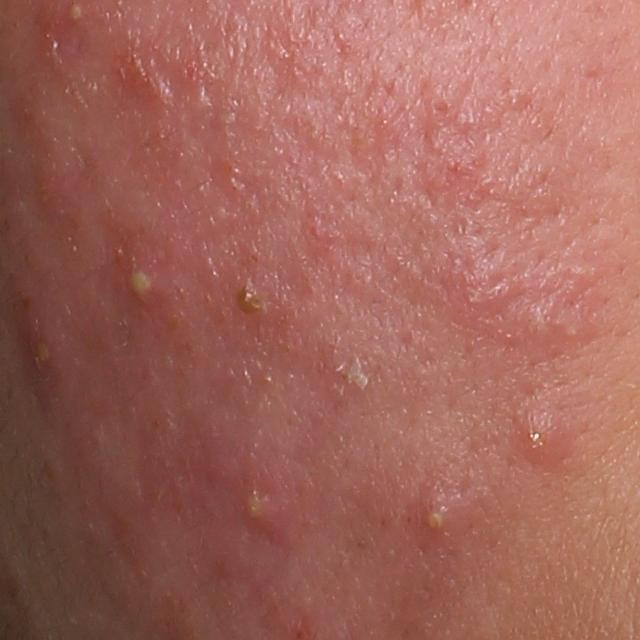pustule: (226, 452, 308, 549), (13, 295, 69, 397), (405, 483, 478, 556), (506, 401, 573, 471), (115, 252, 174, 316), (228, 275, 271, 328)
